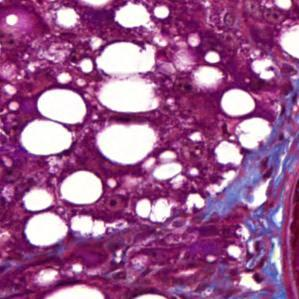steatosis: (35, 84, 95, 126)
